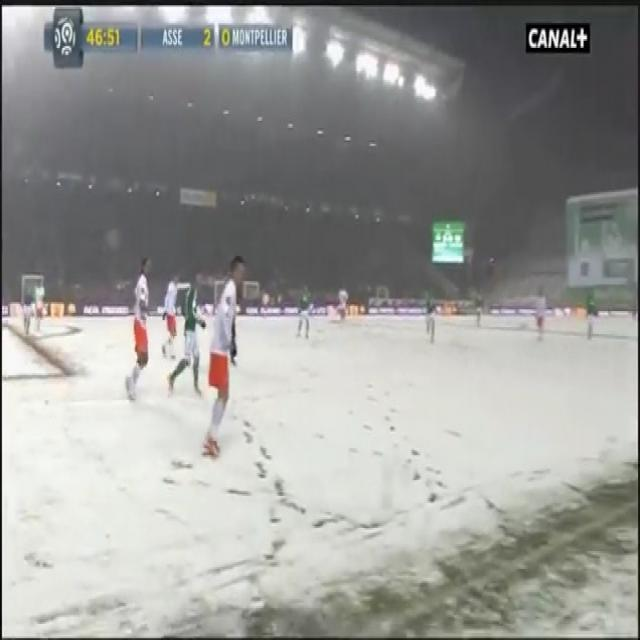player: (203, 240, 258, 467), (166, 277, 207, 406), (122, 248, 153, 396), (294, 275, 322, 355), (581, 289, 609, 352), (161, 275, 181, 363), (418, 289, 441, 365), (15, 285, 36, 367), (31, 269, 51, 352), (532, 272, 551, 358), (470, 279, 493, 343)
